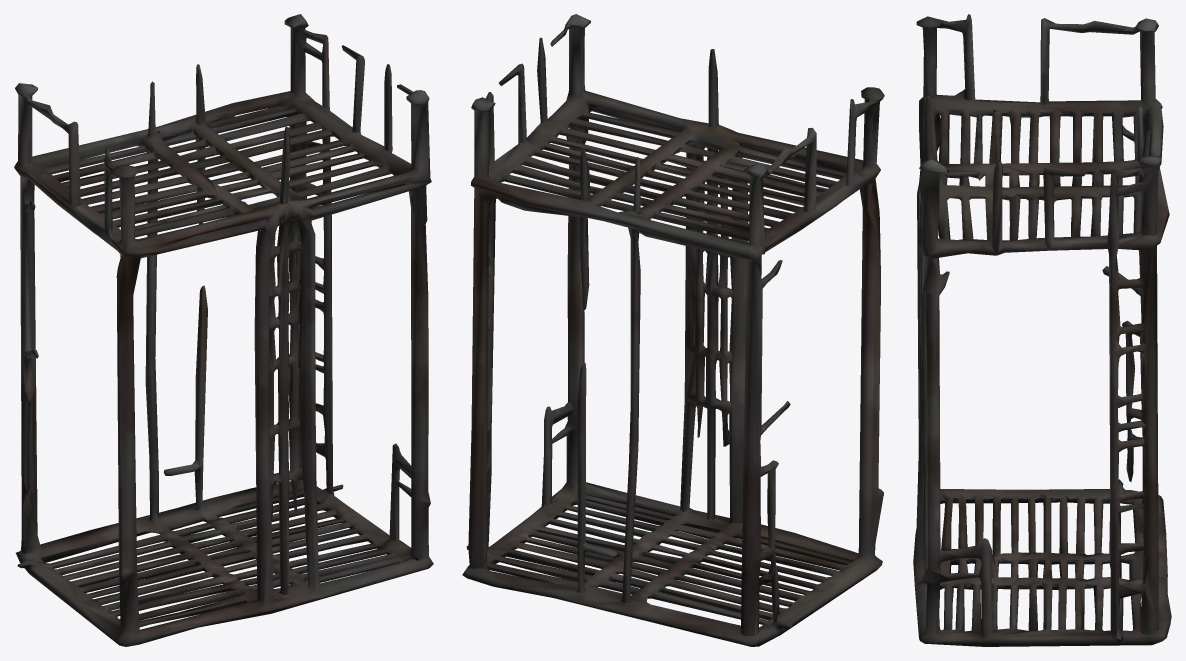
The model's file is worn-iron-portcullis-v001.glb.
3 renders of one model, left to right at view 1: azimuth 30°, elevation 25°; view 2: azimuth 150°, elevation 25°; view 3: azimuth 270°, elevation 25°, orthographic.
Visible parts, largest first — view 1: worn-iron-portcullis; view 2: worn-iron-portcullis; view 3: worn-iron-portcullis.
Part boxes in pixels (box(x1,y1,x2,y2)): worn-iron-portcullis: box(14, 14, 433, 646); worn-iron-portcullis: box(462, 14, 884, 646); worn-iron-portcullis: box(913, 14, 1171, 646).
Bounding box in the file's own units: 1.77 × 2.51 × 1.2.
Materials: 1 (1 with a texture image).
